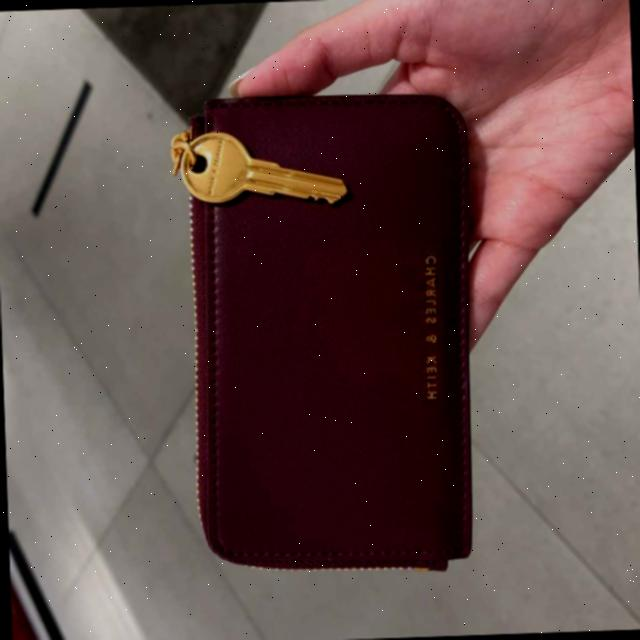Handbag: (173, 88, 484, 582)
